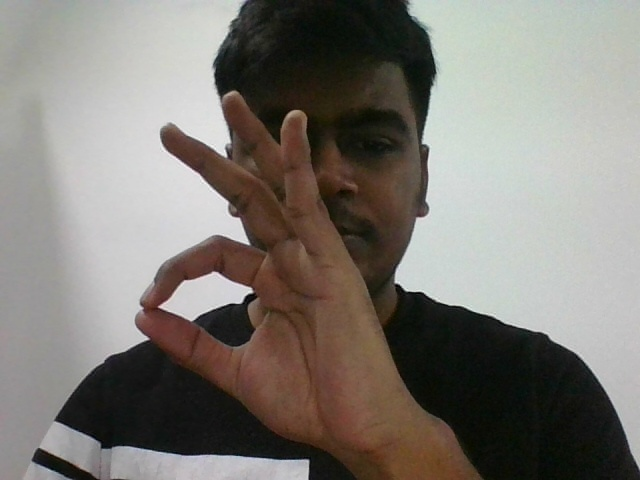ok: (134, 89, 366, 431)
